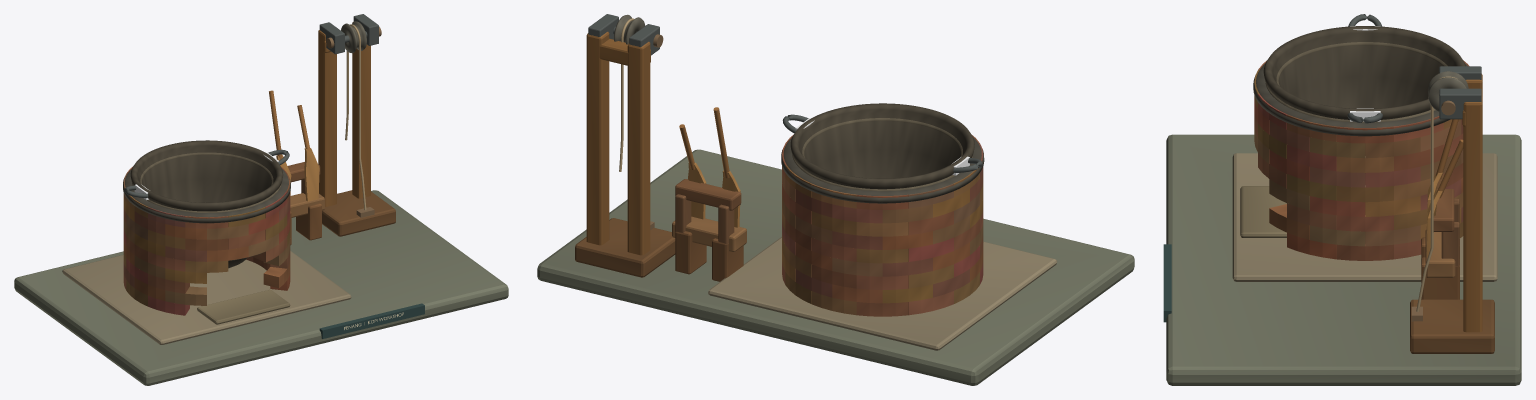
The model's file is penang-heritage-kopi-roasting-station.glb.
3 views of the same model, side by side, from view 1: azimuth 30°, elevation 25°; view 2: azimuth 150°, elevation 25°; view 3: azimuth 270°, elevation 25° (orthographic). The views are drawn at different scales.
Visible parts, largest first — view 1: Aged grey concrete cutaway exhibit plinth, Shallow low old workshop seating pad for masonry, Genuinely hollow thick cast roast pot with real inner wall, Independent short upright on pulley exhibit support, Independent short upright on pulley exhibit support.001, Separate support exhibit foot for pulley stand, Independent forged ring seated on brick, Low ash opening threshold plinth, no active heat, Original workshop exhibit caption plate, Cast pot seating collar and bearing ledge, Raised separate paddle-rest end block.001, One genuine stationary rope passing around independent exhib (+19 smaller); view 2: Aged grey concrete cutaway exhibit plinth, Genuinely hollow thick cast roast pot with real inner wall, Shallow low old workshop seating pad for masonry, Independent short upright on pulley exhibit support, Independent short upright on pulley exhibit support.001, Separate support exhibit foot for pulley stand, Independent forged ring seated on brick, Second timber saddle on paddle rack, Low unconnected paddles rack crossbar, Cast pot seating collar and bearing ledge, Raised separate paddle-rest end block.001, Raised separate paddle-rest end block (+33 smaller); view 3: Aged grey concrete cutaway exhibit plinth, Genuinely hollow thick cast roast pot with real inner wall, Shallow low old workshop seating pad for masonry, Independent short upright on pulley exhibit support.001, Separate support exhibit foot for pulley stand, Independent forged ring seated on brick, Low ash opening threshold plinth, no active heat, Cast pot seating collar and bearing ledge, Raised separate paddle-rest end block.001, Individual original curved brick joint 2 0, Individual original curved brick joint 6 0, Independent axle-clevis jaw projecting from stand.001 (+40 smaller).
Boxes of the visible parts, x1=… form: Aged grey concrete cutaway exhibit plinth: x1=14, y1=190, x2=508, y2=385; Shallow low old workshop seating pad for masonry: x1=62, y1=251, x2=351, y2=344; Genuinely hollow thick cast roast pot with real inner wall: x1=130, y1=140, x2=283, y2=268; Independent short upright on pulley exhibit support: x1=318, y1=30, x2=336, y2=206; Independent short upright on pulley exhibit support.001: x1=352, y1=22, x2=370, y2=198; Separate support exhibit foot for pulley stand: x1=322, y1=190, x2=395, y2=236; Independent forged ring seated on brick: x1=123, y1=169, x2=290, y2=223; Low ash opening threshold plinth, no active heat: x1=197, y1=289, x2=290, y2=324; Original workshop exhibit caption plate: x1=319, y1=303, x2=424, y2=338; Cast pot seating collar and bearing ledge: x1=132, y1=152, x2=281, y2=212; Raised separate paddle-rest end block.001: x1=296, y1=203, x2=321, y2=240; One genuine stationary rope passing around independent exhib: x1=345, y1=24, x2=366, y2=210; Aged grey concrete cutaway exhibit plinth: x1=537, y1=149, x2=1134, y2=385; Genuinely hollow thick cast roast pot with real inner wall: x1=790, y1=103, x2=974, y2=189; Shallow low old workshop seating pad for masonry: x1=708, y1=237, x2=1057, y2=350; Independent short upright on pulley exhibit support: x1=627, y1=41, x2=650, y2=255; Independent short upright on pulley exhibit support.001: x1=586, y1=31, x2=609, y2=245; Separate support exhibit foot for pulley stand: x1=575, y1=218, x2=675, y2=277; Independent forged ring seated on brick: x1=781, y1=137, x2=984, y2=203; Second timber saddle on paddle rack: x1=675, y1=179, x2=741, y2=210; Low unconnected paddles rack crossbar: x1=672, y1=216, x2=746, y2=251; Cast pot seating collar and bearing ledge: x1=792, y1=118, x2=973, y2=191; Raised separate paddle-rest end block.001: x1=675, y1=231, x2=706, y2=274; Raised separate paddle-rest end block: x1=712, y1=238, x2=743, y2=281; Aged grey concrete cutaway exhibit plinth: x1=1166, y1=134, x2=1521, y2=385; Genuinely hollow thick cast roast pot with real inner wall: x1=1263, y1=26, x2=1465, y2=119; Shallow low old workshop seating pad for masonry: x1=1232, y1=153, x2=1497, y2=281; Independent short upright on pulley exhibit support.001: x1=1463, y1=96, x2=1482, y2=332; Separate support exhibit foot for pulley stand: x1=1410, y1=299, x2=1494, y2=353; Independent forged ring seated on brick: x1=1253, y1=63, x2=1467, y2=136; Low ash opening threshold plinth, no active heat: x1=1240, y1=186, x2=1286, y2=237; Cast pot seating collar and bearing ledge: x1=1265, y1=42, x2=1447, y2=122; Raised separate paddle-rest end block.001: x1=1421, y1=257, x2=1459, y2=299; Individual original curved brick joint 2 0: x1=1336, y1=215, x2=1393, y2=231; Individual original curved brick joint 6 0: x1=1336, y1=156, x2=1393, y2=172; Independent axle-clevis jaw projecting from stand.001: x1=1439, y1=88, x2=1481, y2=119.
Bounding box in the file's own units: 1.8 × 0.995 × 1.15.
